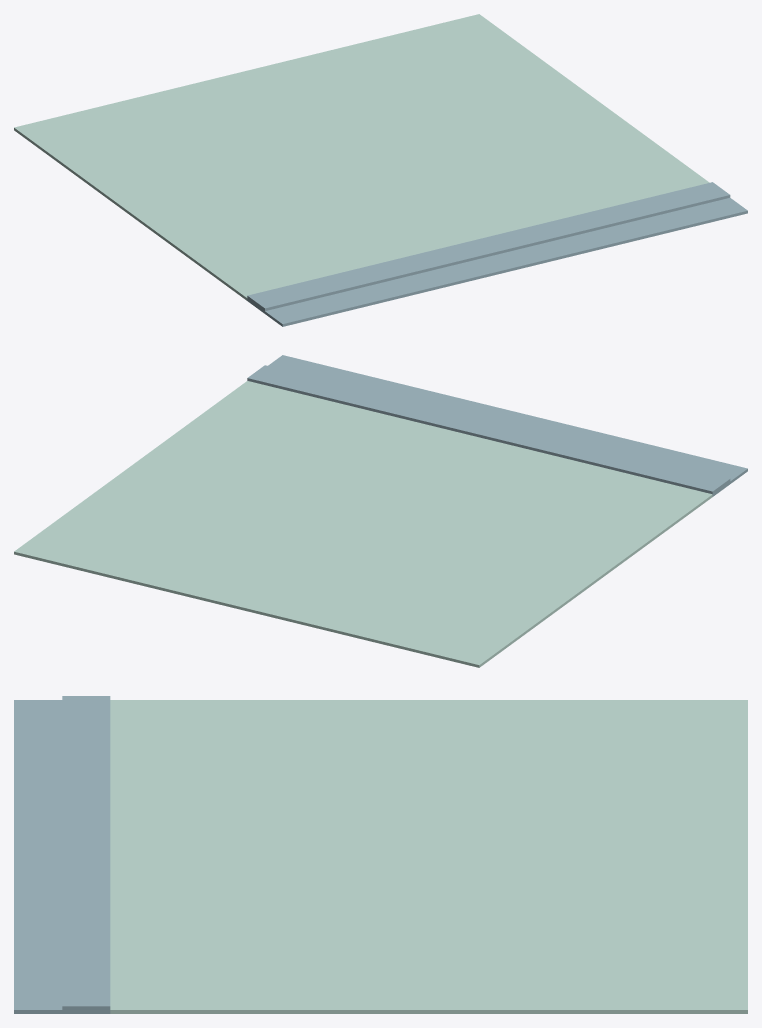
The model's file is Sidewalk3-Straight.fbx.
3 views of the same model, one above another, from view 1: azimuth 30°, elevation 25°; view 2: azimuth 150°, elevation 25°; view 3: azimuth 270°, elevation 25° (orthographic). The views are drawn at different scales.
Visible parts, largest first — view 1: Sidewalk3; view 2: Sidewalk3; view 3: Sidewalk3.
Boxes of the visible parts, left/top/right/bottom form: Sidewalk3: left=14, top=14, right=747, bottom=326; Sidewalk3: left=14, top=355, right=747, bottom=667; Sidewalk3: left=14, top=696, right=747, bottom=1013.
Bounding box in the file's own units: 350 × 4 × 350.
